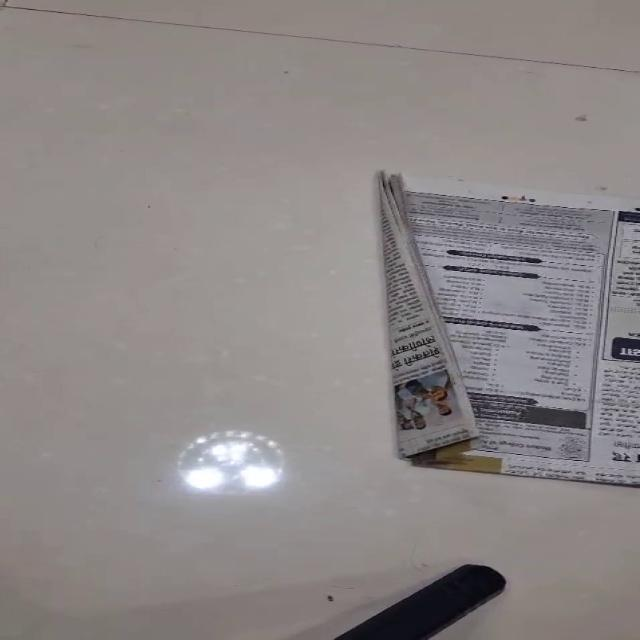paper: (378, 169, 638, 486)
